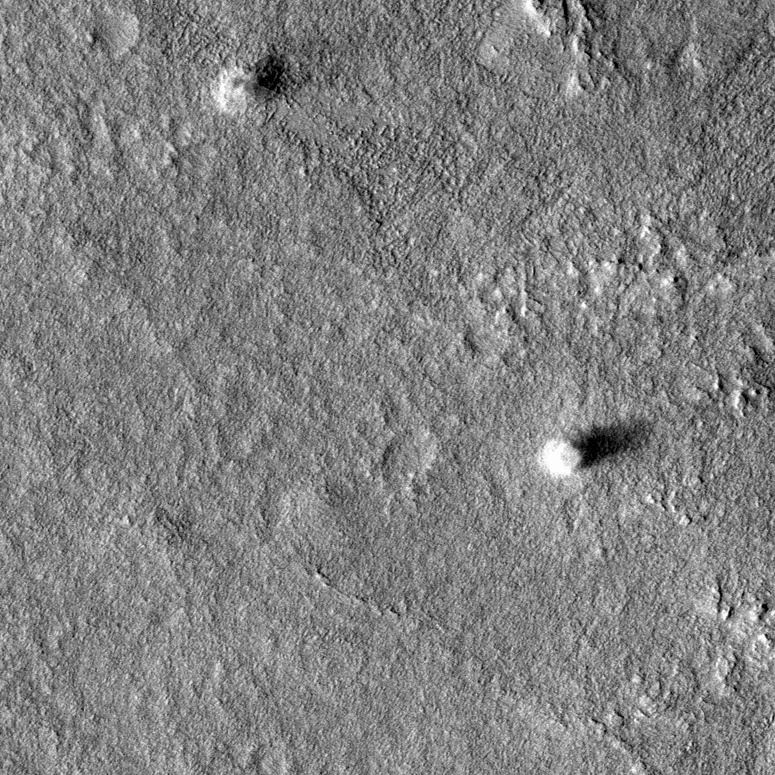dust_devil: (206, 38, 325, 119), (539, 416, 654, 480)
